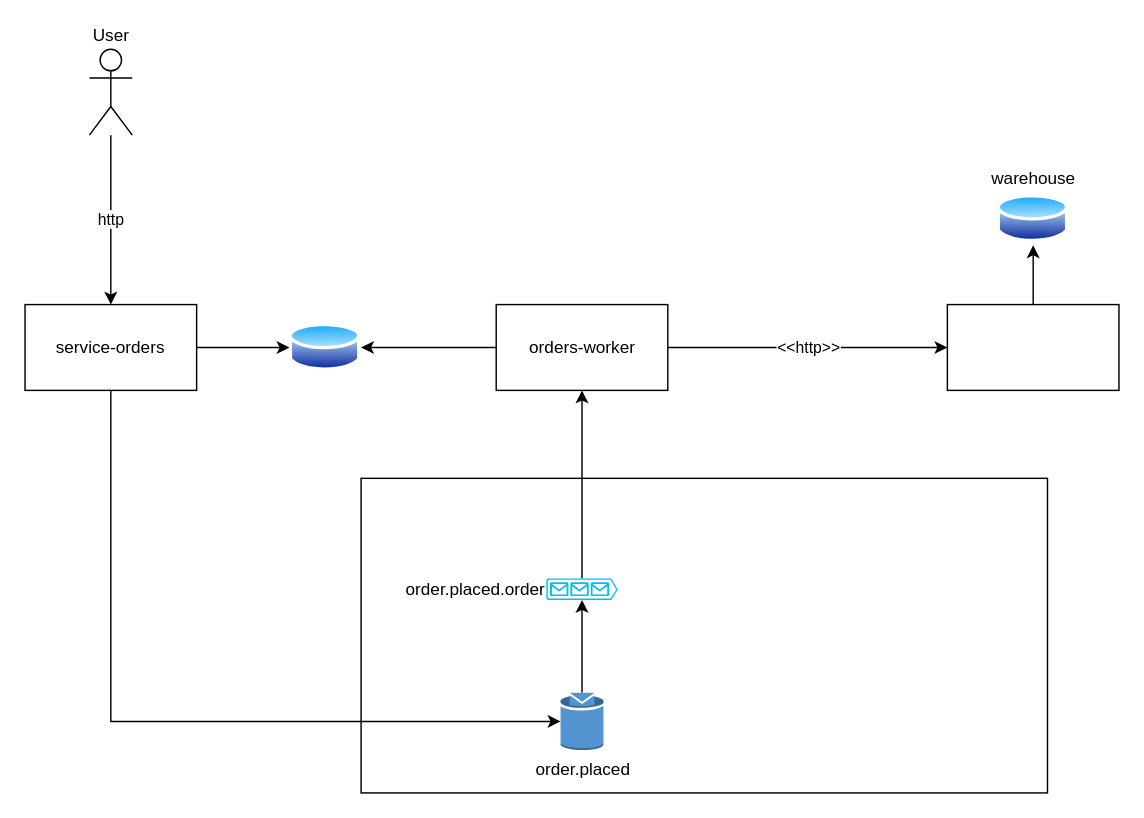
The diagram is 1144 pixels wide and 818 high, and some of its shapes have lost their labels. Here are the shapes that lost their labels. From the top down, the box of each, then its label:
(289, 320, 360, 373): orders
(946, 303, 1119, 390): service-warehouse
(360, 477, 1047, 793): rabbitmq
